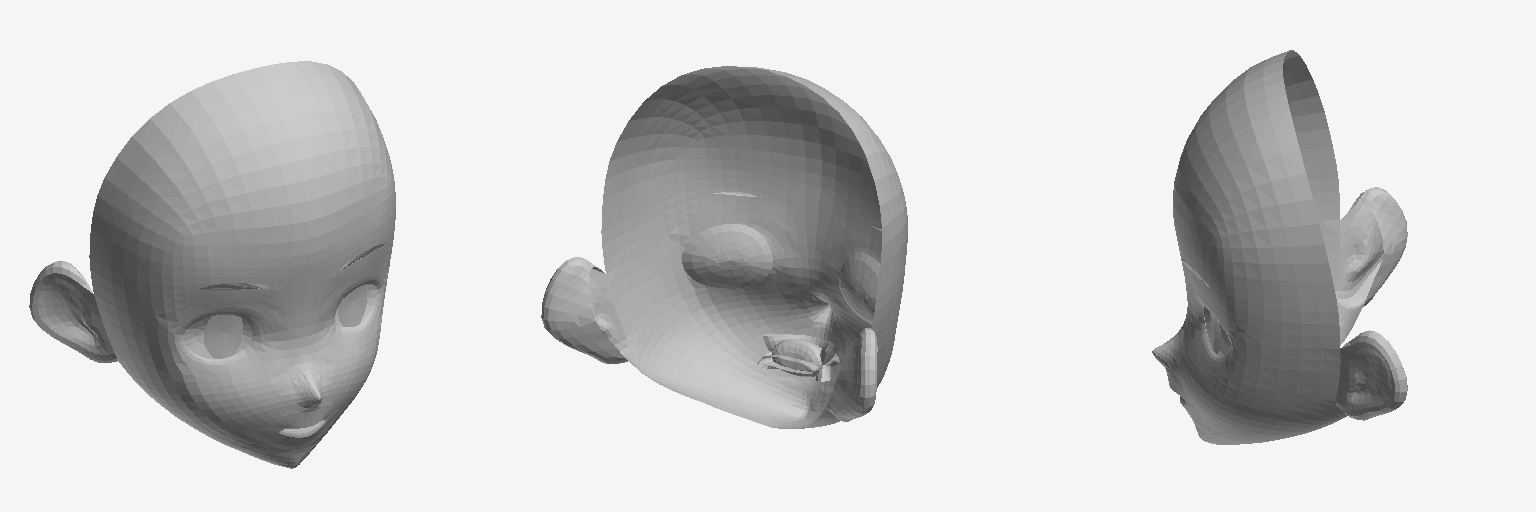
Rendered from eyeWideRight.obj.
3 views of the same model, side by side, from view 1: azimuth 30°, elevation 25°; view 2: azimuth 150°, elevation 25°; view 3: azimuth 270°, elevation 25° (orthographic).
Parts seen in each view (by area): view 1: Face; view 2: Face; view 3: Face.
Part boxes in pixels (bbox=[...]): Face: bbox=[29, 61, 395, 468]; Face: bbox=[541, 66, 907, 428]; Face: bbox=[1152, 50, 1407, 444].
Size of the model in its own units: 0.2176 by 0.2333 by 0.1449.